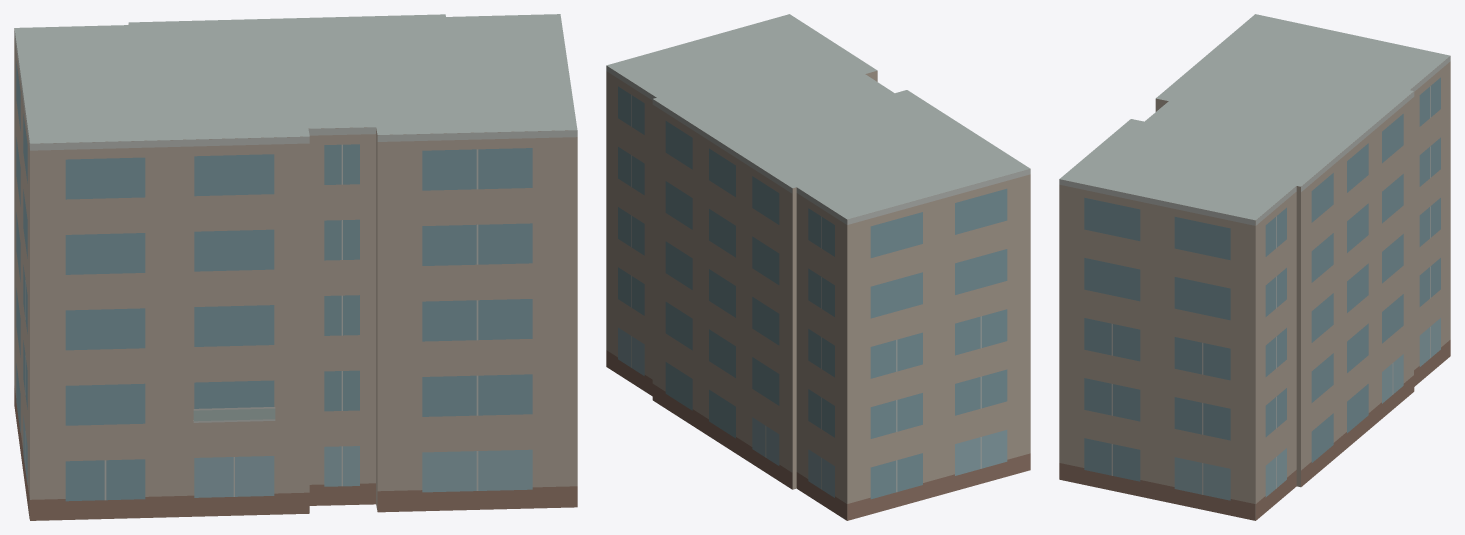
File: survey-upis-32887873.glb
The picture shows the model from 3 angles, left to right: view 1: azimuth 30°, elevation 25°; view 2: azimuth 150°, elevation 25°; view 3: azimuth 270°, elevation 25°; orthographic projection. The views are drawn at different scales.
Parts seen in each view (by area): view 1: survey-upis-32887873.tmp; view 2: survey-upis-32887873.tmp; view 3: survey-upis-32887873.tmp.
Part boxes in pixels (bbox=[...]): survey-upis-32887873.tmp: bbox=[14, 14, 577, 520]; survey-upis-32887873.tmp: bbox=[606, 14, 1030, 520]; survey-upis-32887873.tmp: bbox=[1059, 14, 1450, 520].
Size of the model in its own units: 19.45 by 13.2 by 15.59.
